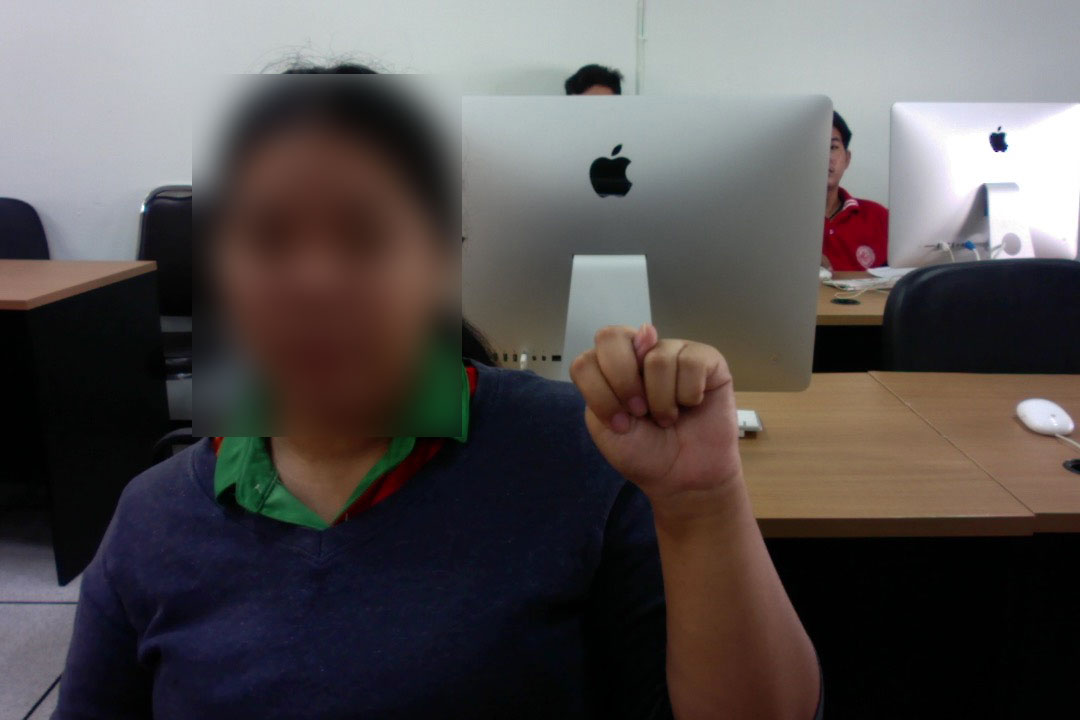nor: (561, 318, 751, 512)
